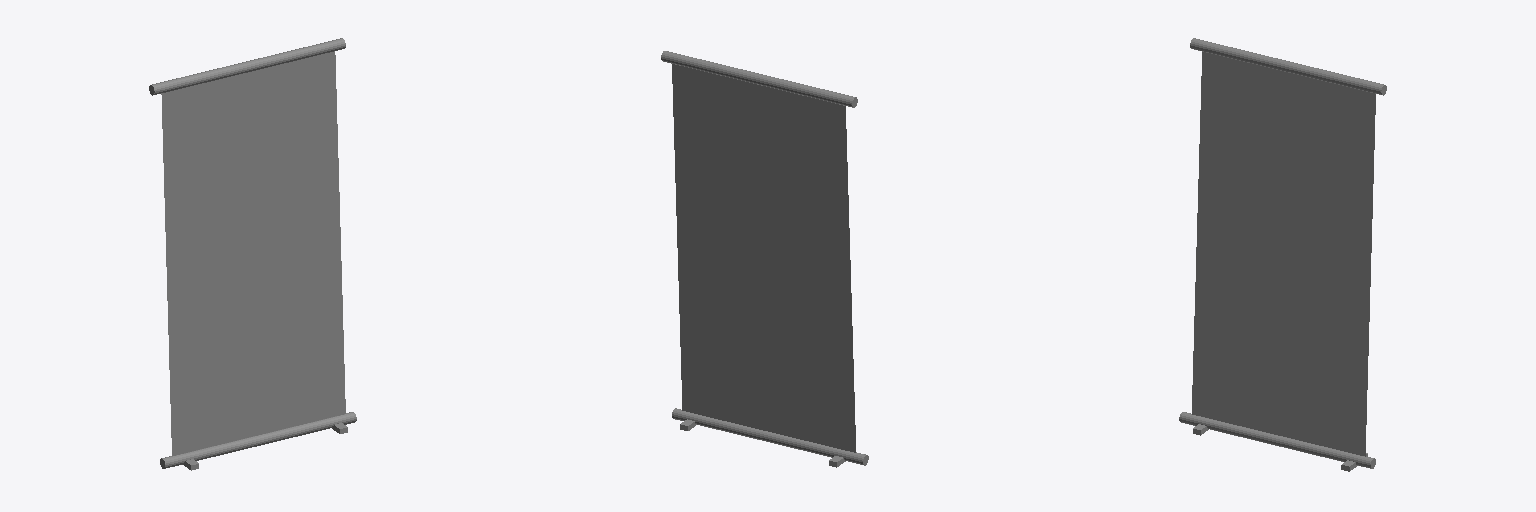
File: standee001.obj
3 views of the same model, side by side, from view 1: azimuth 30°, elevation 25°; view 2: azimuth 150°, elevation 25°; view 3: azimuth 330°, elevation 25° (orthographic).
Visible parts, largest first — view 1: Plane01, Cylinder01, Cylinder02; view 2: Plane01, Cylinder01, Cylinder02; view 3: Plane01, Cylinder01, Cylinder02.
Boxes of the visible parts, x1=… form: Plane01: x1=161, y1=51, x2=345, y2=455; Cylinder01: x1=149, y1=38, x2=345, y2=95; Cylinder02: x1=160, y1=412, x2=356, y2=468; Plane01: x1=672, y1=64, x2=855, y2=452; Cylinder01: x1=661, y1=51, x2=857, y2=107; Cylinder02: x1=672, y1=408, x2=868, y2=465; Plane01: x1=1192, y1=52, x2=1375, y2=456; Cylinder01: x1=1190, y1=38, x2=1386, y2=95; Cylinder02: x1=1179, y1=412, x2=1375, y2=468.
Size of the model in its own units: 39.59 by 74.33 by 8.09.